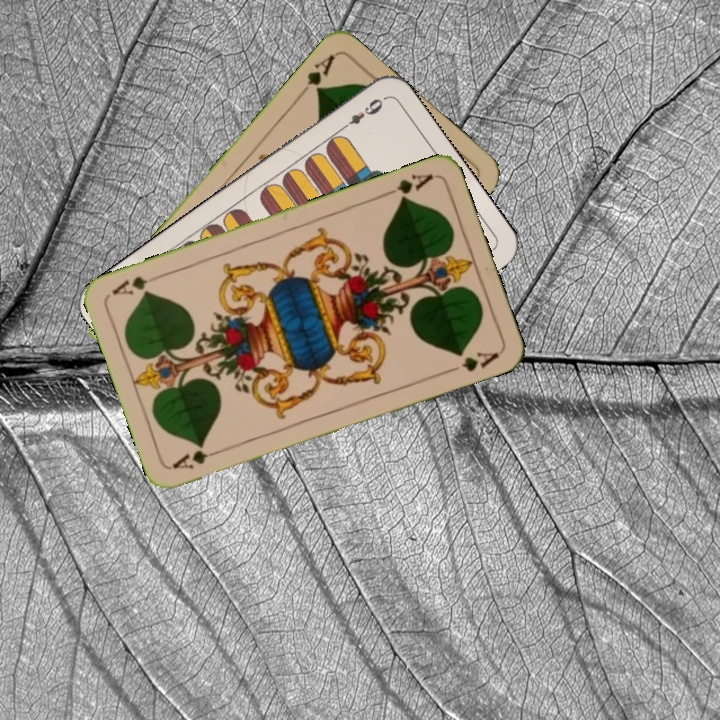E9: (336, 93, 387, 134)
GA: (294, 50, 338, 101), (379, 169, 436, 205), (168, 444, 227, 472)
